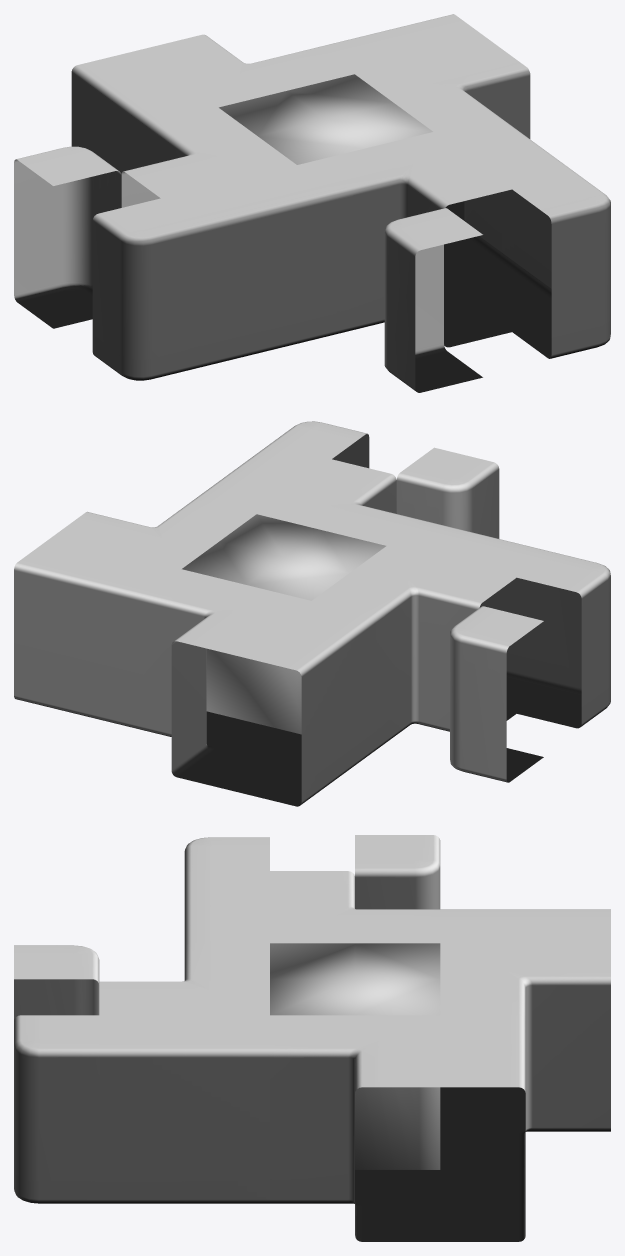
Rendered from Dual_Grid.fbx.
3 renders of one model, top to bottom at view 1: azimuth 30°, elevation 25°; view 2: azimuth 150°, elevation 25°; view 3: azimuth 270°, elevation 25°, orthographic. The views are drawn at different scales.
Parts seen in each view (by area): view 1: Grid_10, Grid_06, Grid_03, Grid_01, Grid_12, Grid_07, Grid_02, Grid_04, Grid_13, Grid_09, Grid_08, Grid_05 (+1 smaller); view 2: Grid_11, Grid_05, Grid_08, Grid_09, Grid_13, Grid_03, Grid_01, Grid_10, Grid_06, Grid_02, Grid_07, Grid_12 (+1 smaller); view 3: Grid_12, Grid_05, Grid_07, Grid_13, Grid_04, Grid_11, Grid_06, Grid_08, Grid_09, Grid_01, Grid_10, Grid_02 (+1 smaller).
Boxes of the visible parts, x1,y1,x2,y2 form: Grid_10: (161, 165, 336, 367); Grid_06: (297, 132, 511, 347); Grid_03: (92, 198, 200, 380); Grid_01: (14, 146, 121, 328); Grid_12: (434, 116, 577, 331); Grid_07: (355, 41, 530, 271); Grid_02: (384, 208, 482, 392); Grid_04: (512, 174, 610, 358); Grid_13: (219, 74, 432, 164); Grid_09: (71, 50, 217, 174); Grid_08: (121, 107, 296, 207); Grid_05: (140, 34, 354, 107); Grid_11: (14, 537, 181, 730); Grid_05: (144, 569, 310, 791); Grid_08: (312, 546, 516, 750); Grid_09: (237, 601, 376, 806); Grid_13: (182, 514, 385, 734); Grid_03: (517, 552, 610, 728); Grid_01: (450, 606, 543, 782); Grid_10: (387, 520, 554, 713); Grid_06: (257, 459, 421, 545); Grid_02: (396, 447, 499, 538); Grid_07: (52, 499, 256, 568); Grid_12: (194, 444, 331, 513); Grid_12: (99, 1015, 269, 1203); Grid_05: (440, 943, 610, 1169); Grid_07: (270, 1015, 440, 1241); Grid_13: (270, 943, 440, 1169); Grid_04: (14, 1015, 99, 1203); Grid_11: (440, 1015, 525, 1241); Grid_06: (99, 943, 269, 1015); Grid_08: (270, 871, 440, 943); Grid_09: (440, 909, 610, 1097); Grid_01: (355, 835, 440, 909); Grid_10: (184, 871, 269, 947); Grid_02: (14, 945, 99, 1020).
Bounding box in the file's own units: 3.5 × 1 × 3.5.
1 material, 1 textured.
